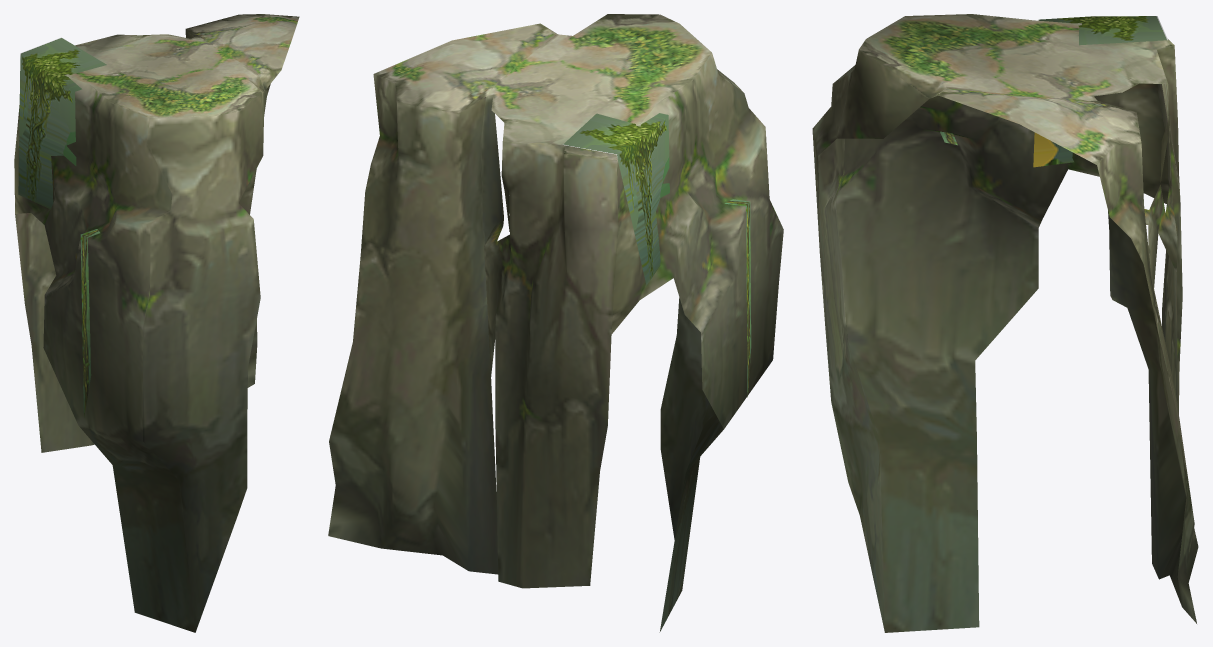
The model's file is S_Rock_Green080_H3.FBX.
3 views of the same model, side by side, from view 1: azimuth 30°, elevation 25°; view 2: azimuth 150°, elevation 25°; view 3: azimuth 270°, elevation 25° (orthographic). The views are drawn at different scales.
Parts seen in each view (by area): view 1: S_Rock_Green080_H3; view 2: S_Rock_Green080_H3; view 3: S_Rock_Green080_H3.
Boxes of the visible parts, left/top/right/bottom form: S_Rock_Green080_H3: left=14, top=14, right=299, bottom=632; S_Rock_Green080_H3: left=328, top=14, right=783, bottom=632; S_Rock_Green080_H3: left=812, top=14, right=1198, bottom=632.
Bounding box in the file's own units: 931 × 1655 × 952.
